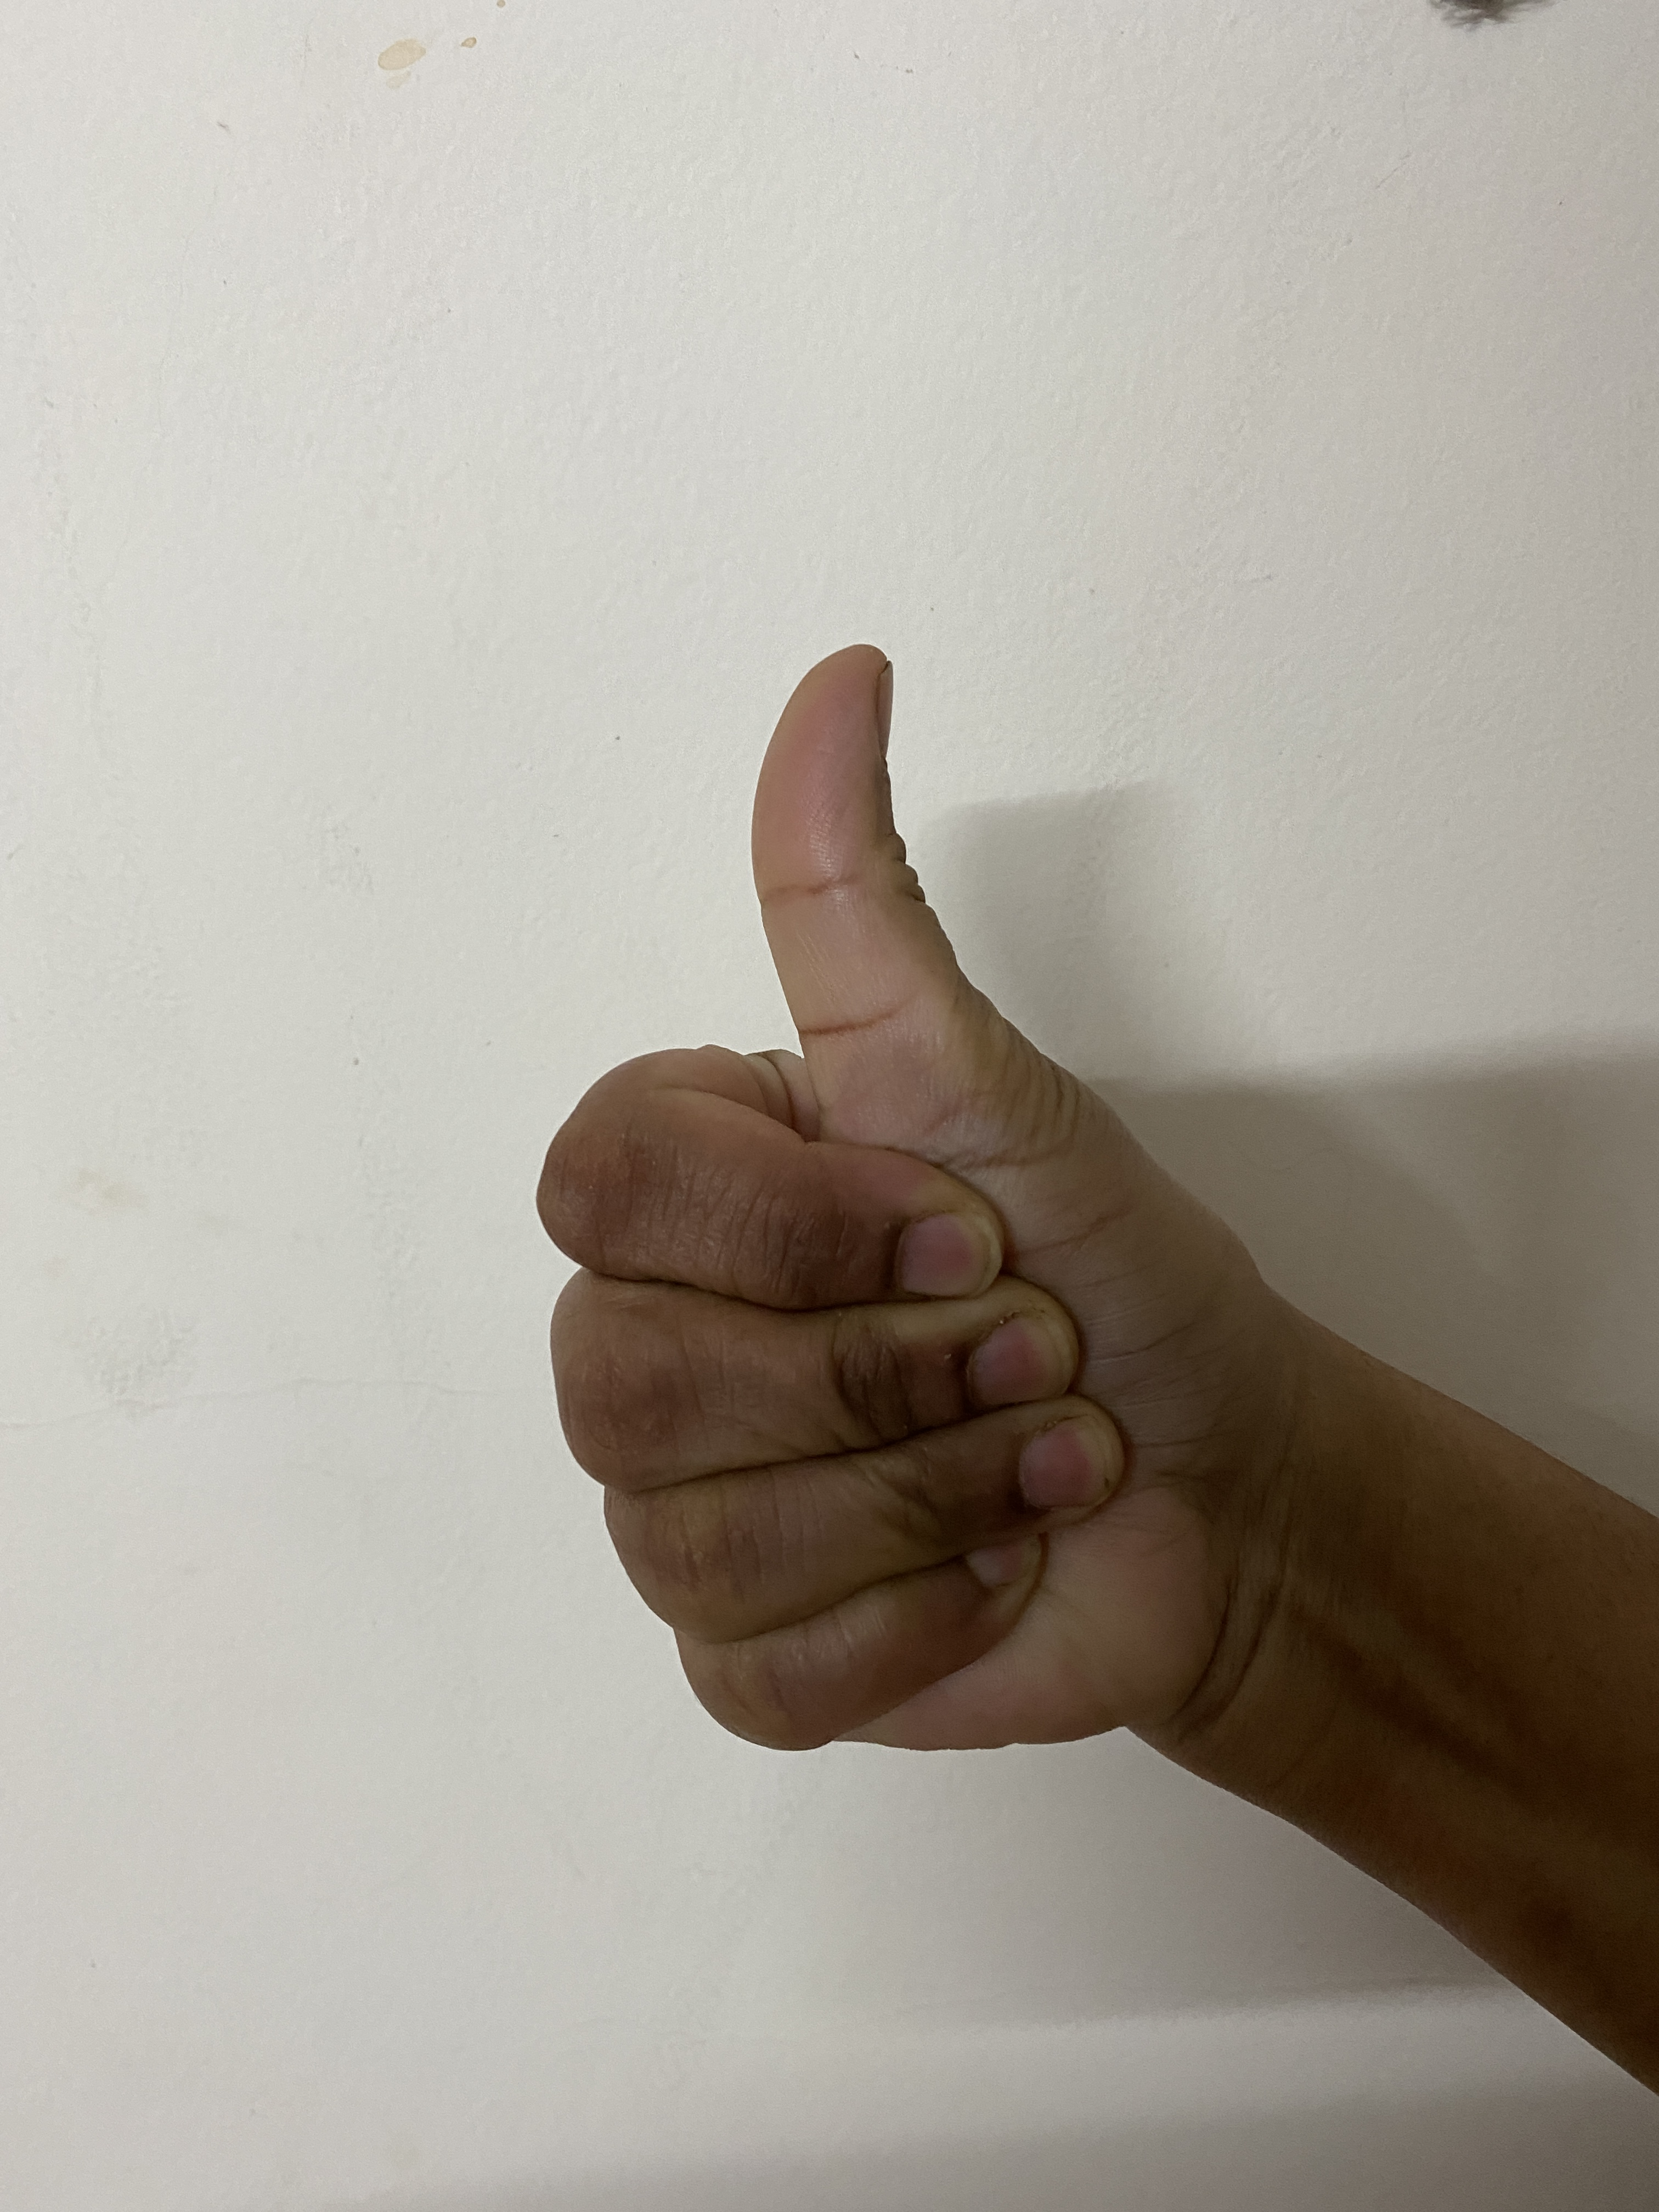up: (221, 425, 1520, 1979)
